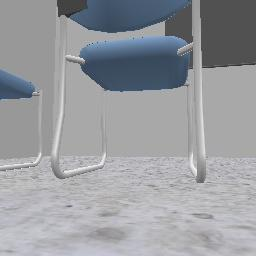scaun: (51, 0, 205, 181), (0, 69, 39, 170)
videoproiector: (201, 0, 255, 67), (166, 5, 192, 42)
